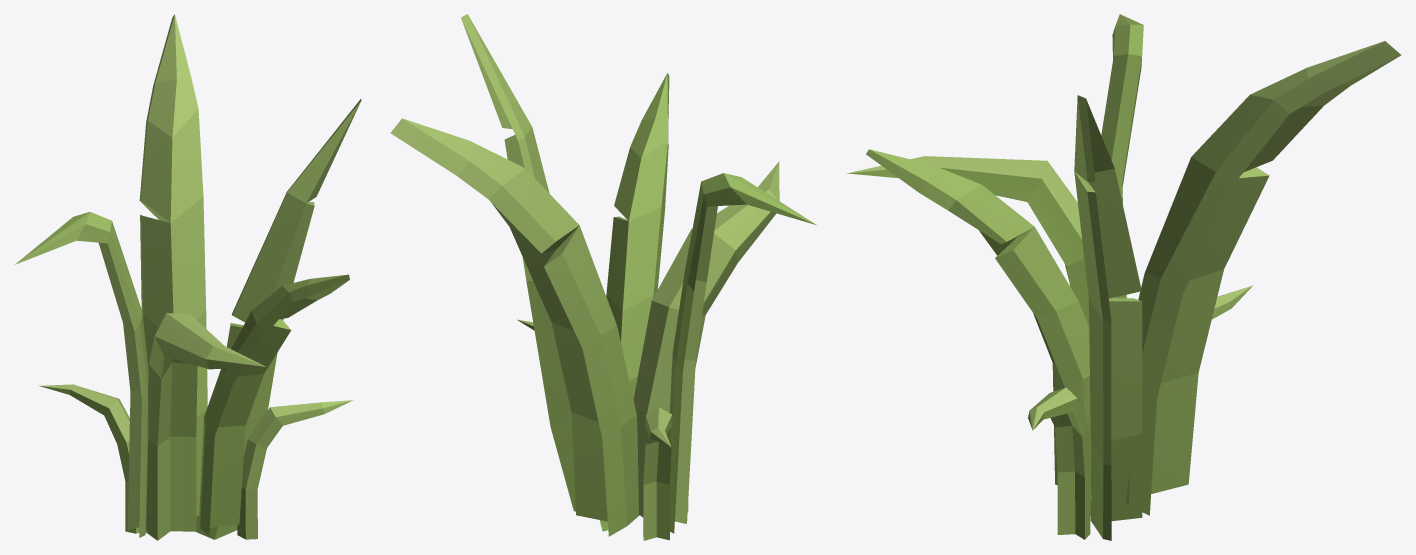
Rendered from dm11.grass.v1.01.glb.
3 views of the same model, side by side, from view 1: azimuth 30°, elevation 25°; view 2: azimuth 150°, elevation 25°; view 3: azimuth 270°, elevation 25° (orthographic). The views are drawn at different scales.
Parts seen in each view (by area): view 1: PP_Grass_11.001_PP_Standard_Material_0; view 2: PP_Grass_11.001_PP_Standard_Material_0; view 3: PP_Grass_11.001_PP_Standard_Material_0.
Boxes of the visible parts, x1,y1,x2,y2 form: PP_Grass_11.001_PP_Standard_Material_0: (15,14,361,540); PP_Grass_11.001_PP_Standard_Material_0: (390,14,816,540); PP_Grass_11.001_PP_Standard_Material_0: (847,14,1401,540).
Size of the model in its own units: 0.3381 by 0.4083 by 0.3895.
Materials: 1 (1 with a texture image).
